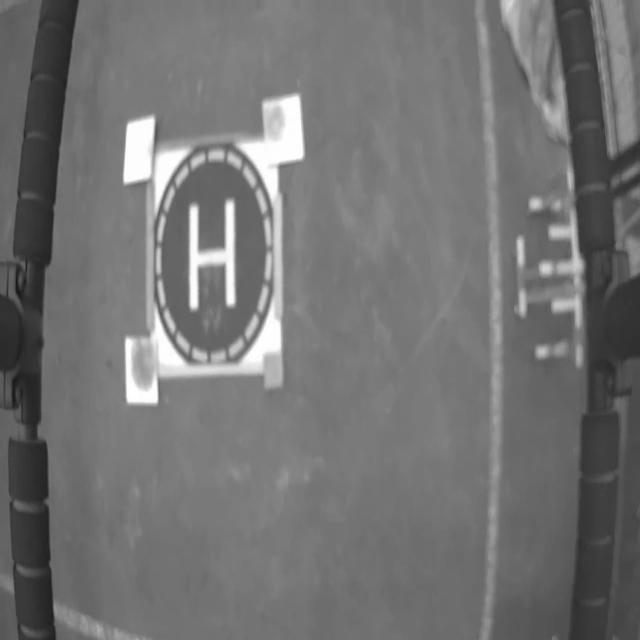Helipad: (189, 199, 236, 310)
